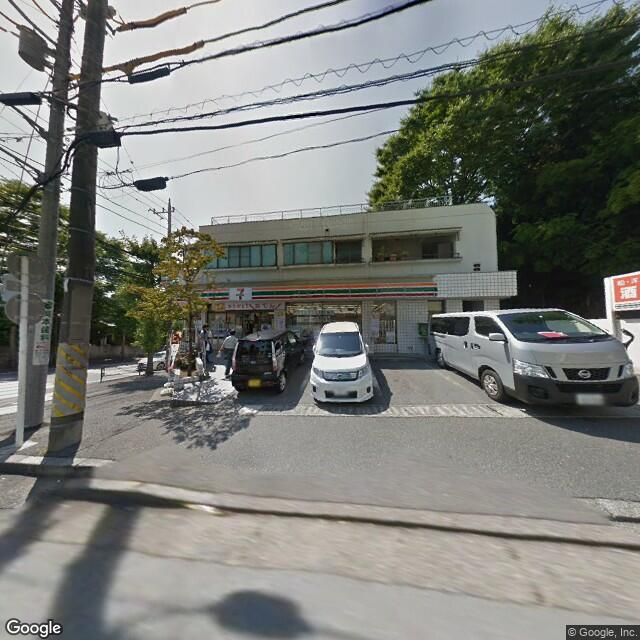7-eleven: (197, 275, 442, 306)
